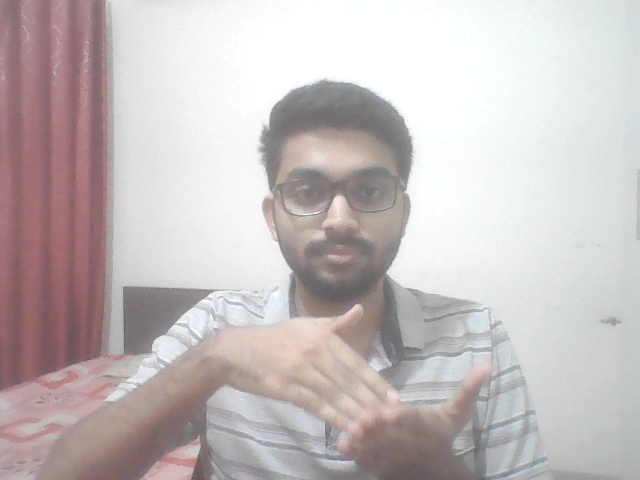again: (206, 289, 519, 478)
